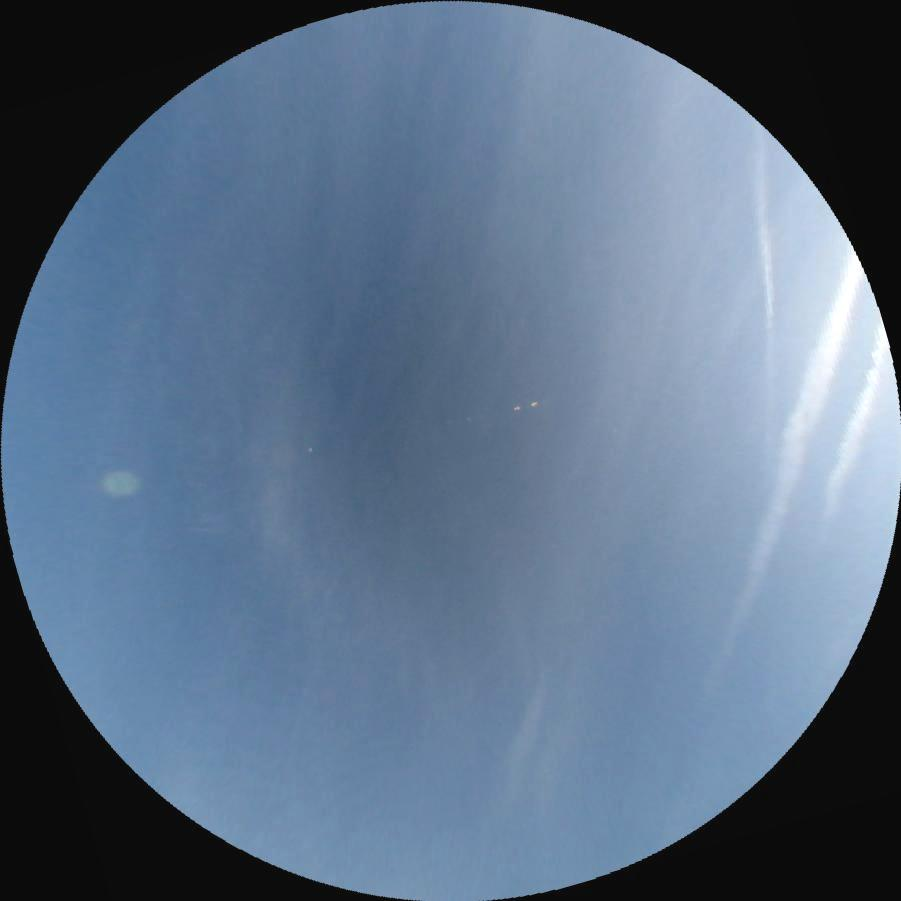contrail veryold: (682, 251, 873, 718), (812, 319, 897, 524)
unknow: (749, 127, 778, 375)
